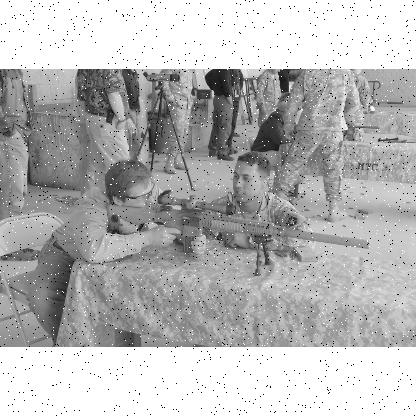gun: (107, 190, 366, 272)
